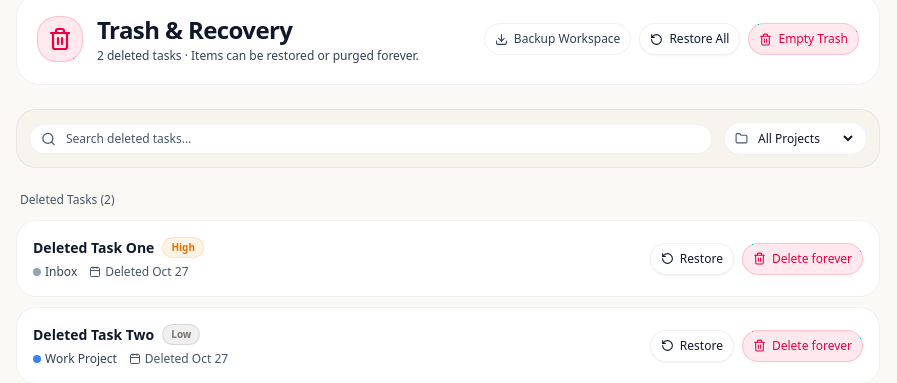
Scenario: RecoveryView › Trash mode › filters tasks based on search input
Type "Task Two" into the field with placeholder "Search deleted tasks..." at (370, 138), box [29,124,712,154]
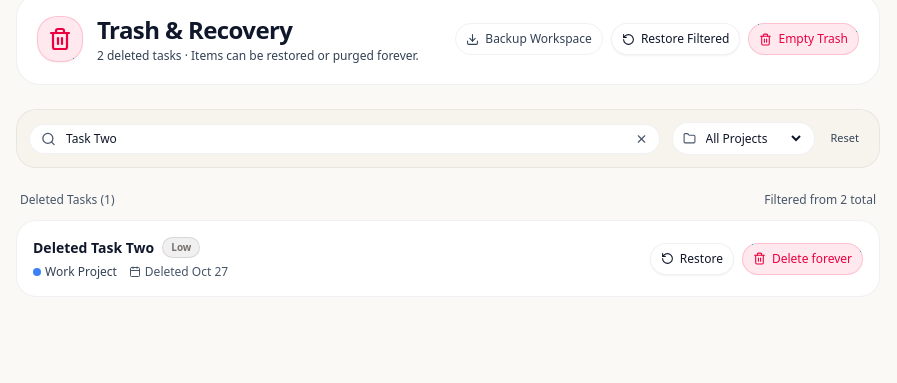
Check: the text "Deleted Task Two" is shown, box [33,238,154,258]
Check: the text "Deleted Task One" is gone
